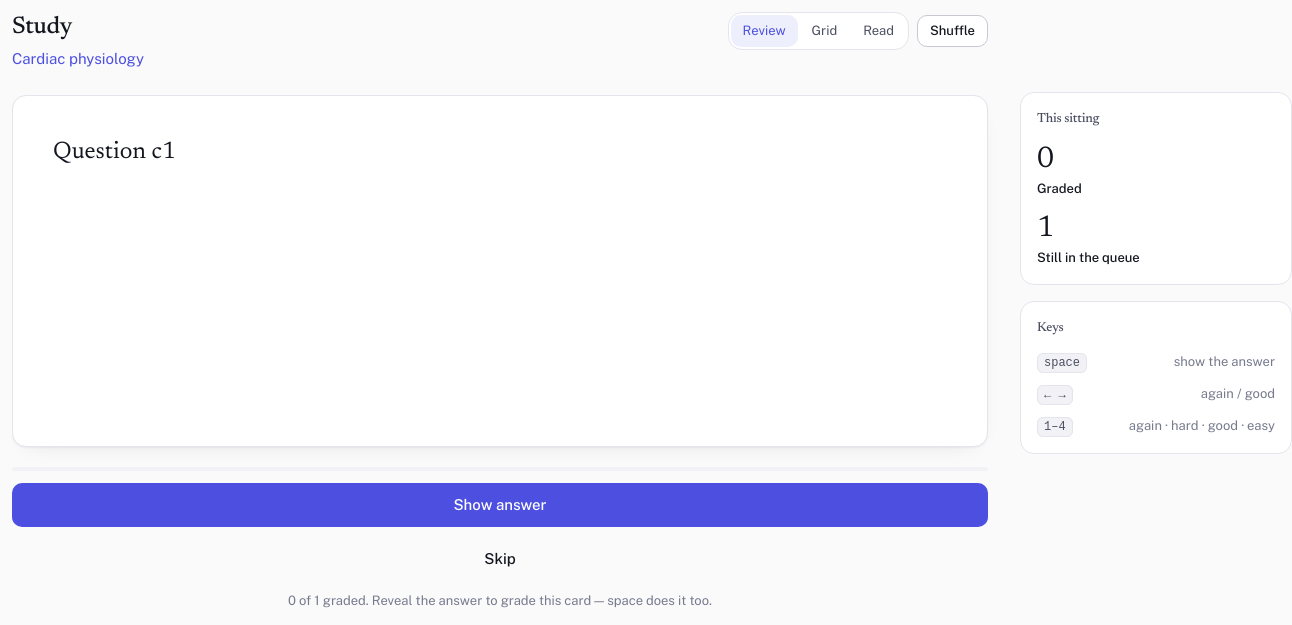
it: StudySession undo › still offers undo after the card that ended the session
Click the button "Show answer".
click(500, 505)  # box [12,483,988,527]
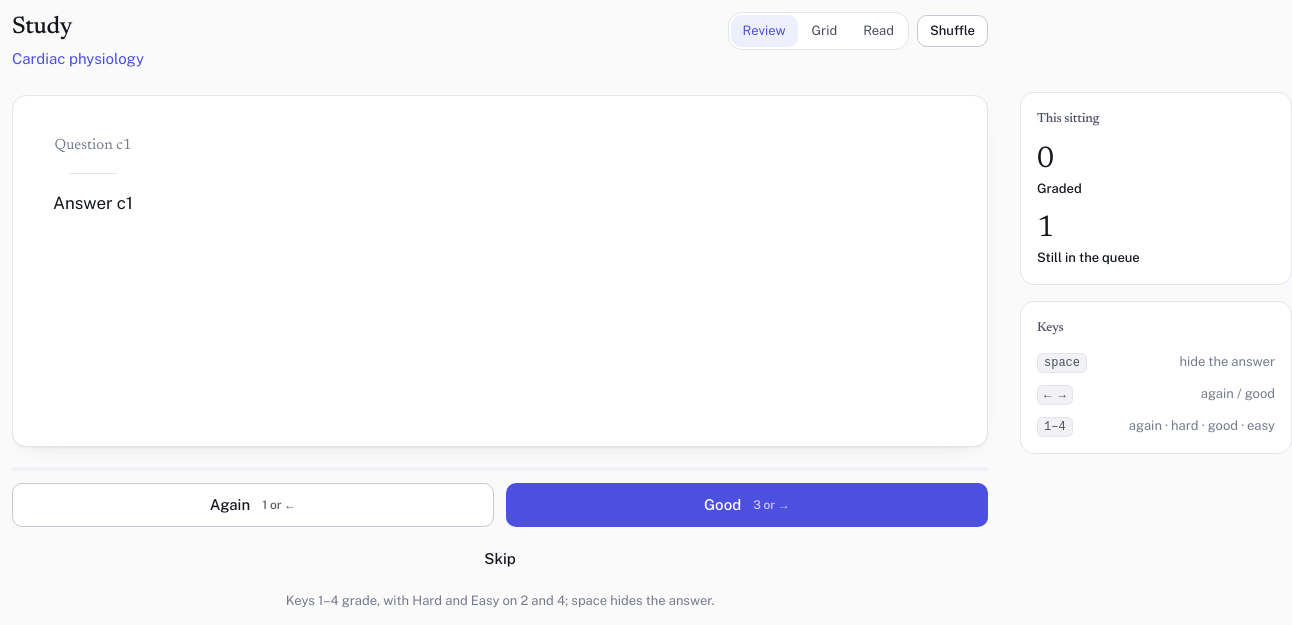
Click the button "Good 3 or →".
click(723, 505)  # box [506,483,988,527]
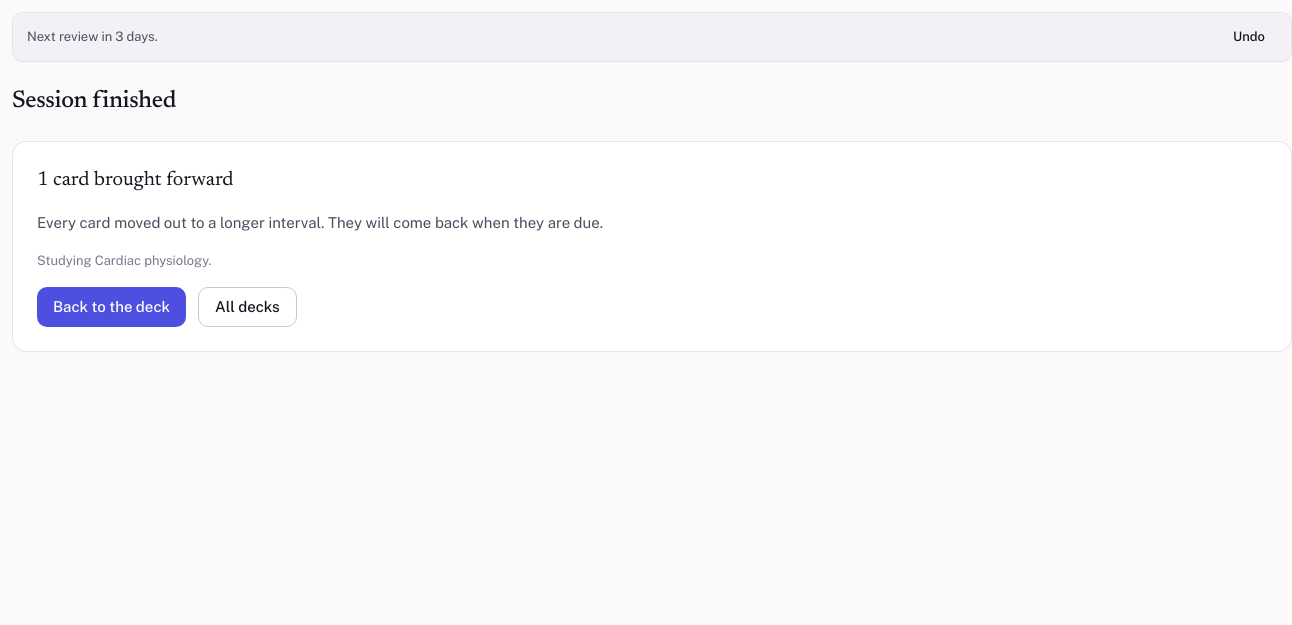
expect the heading "Session finished" is shown: met, box [12,89,176,113]
expect the button "Undo" is shown: met, box [1221,21,1277,53]
